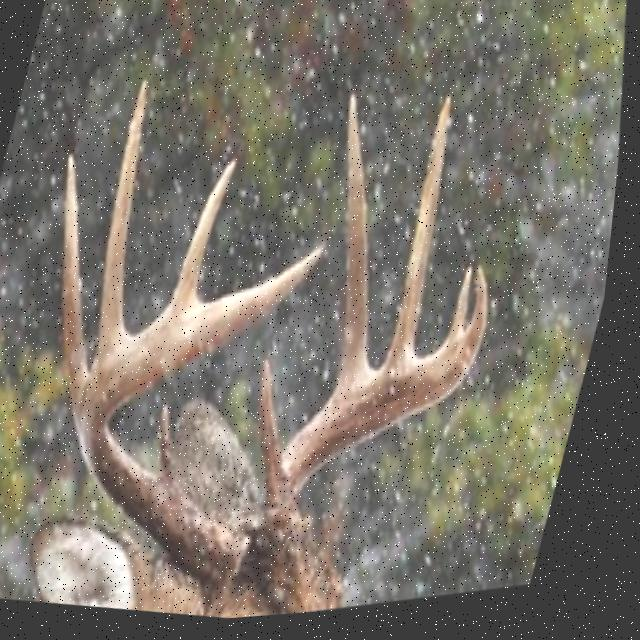L-F: (84, 247, 332, 588)
L-G1: (170, 408, 184, 482)
L-G2: (70, 156, 98, 410)
L-G3: (106, 80, 152, 360)
R-F: (282, 269, 496, 554)
R-G1: (270, 363, 292, 483)
R-G2: (346, 97, 380, 395)
R-G3: (394, 99, 455, 367)
